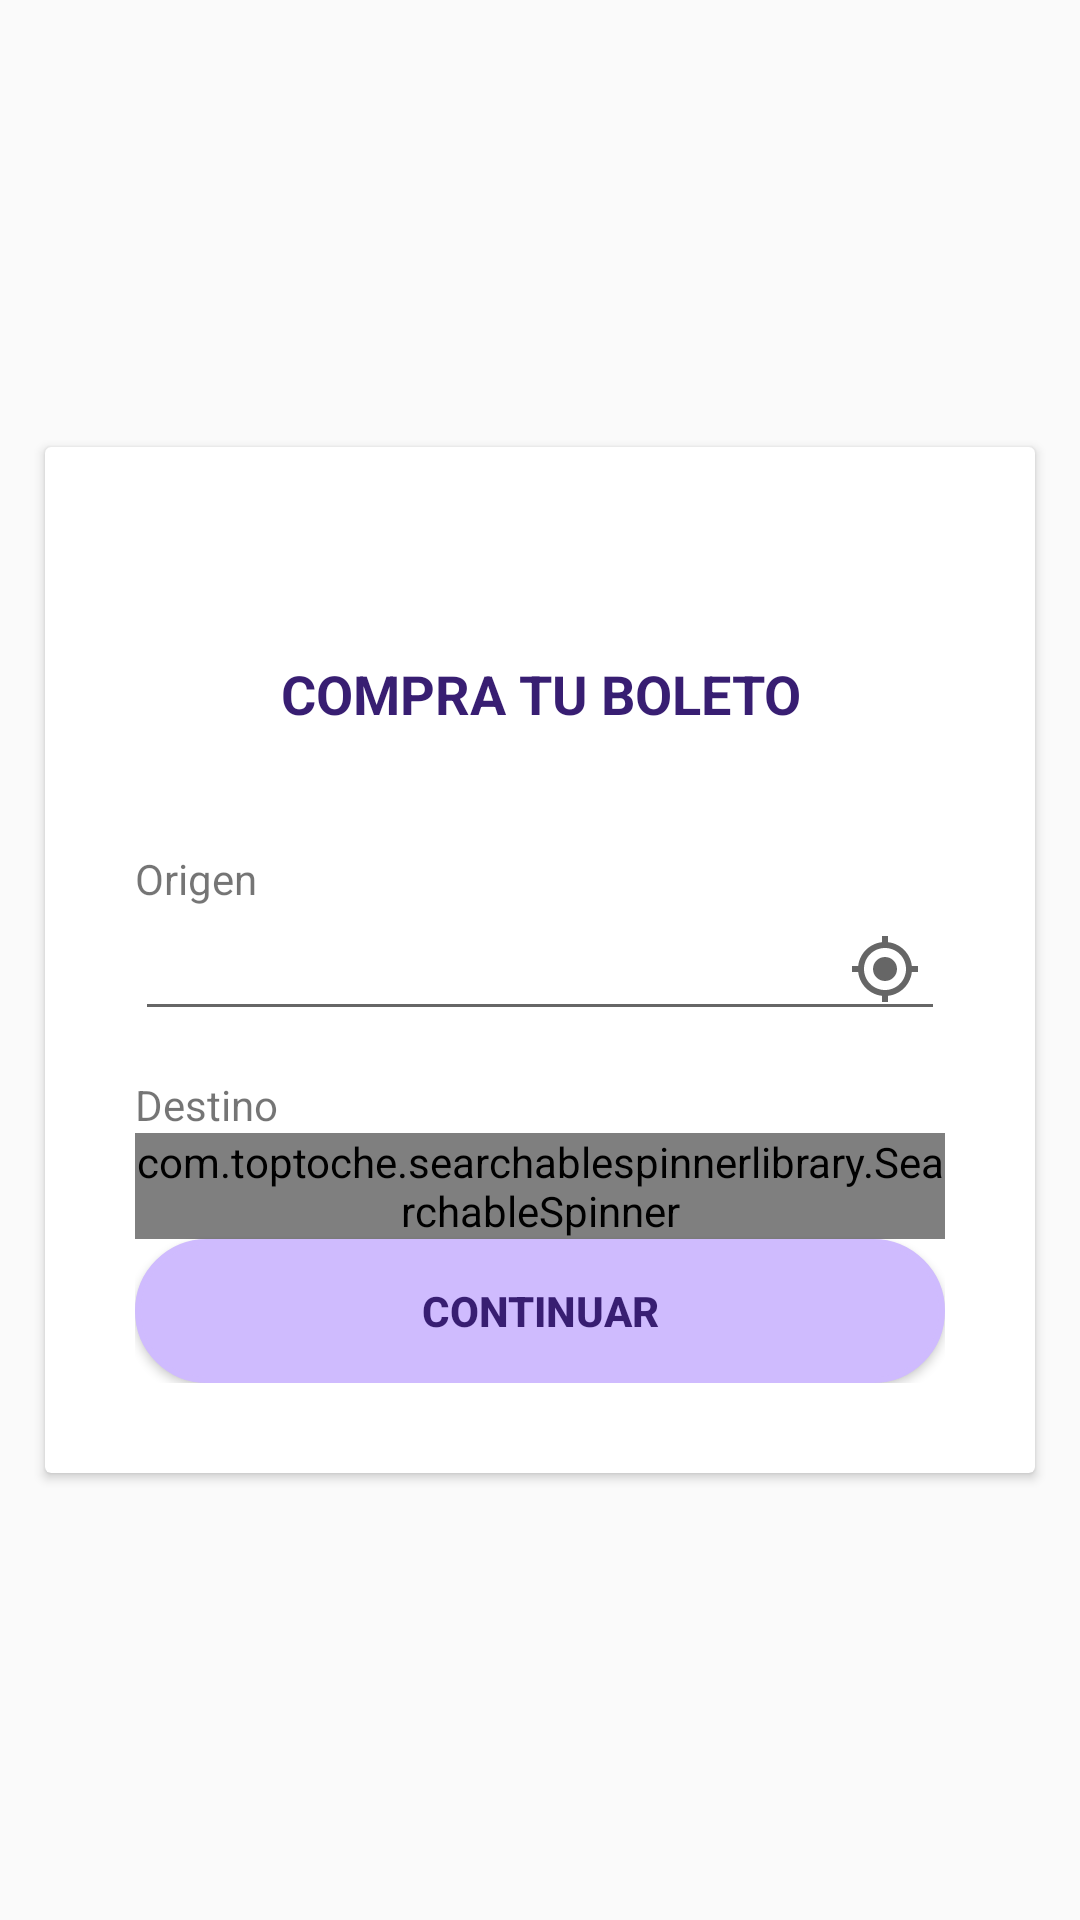

Icon bounding boxes for this 1080w x 1920h phone screenshot, format (x1, y1, x2, y2):
mylocation: (852, 936, 918, 1002)
